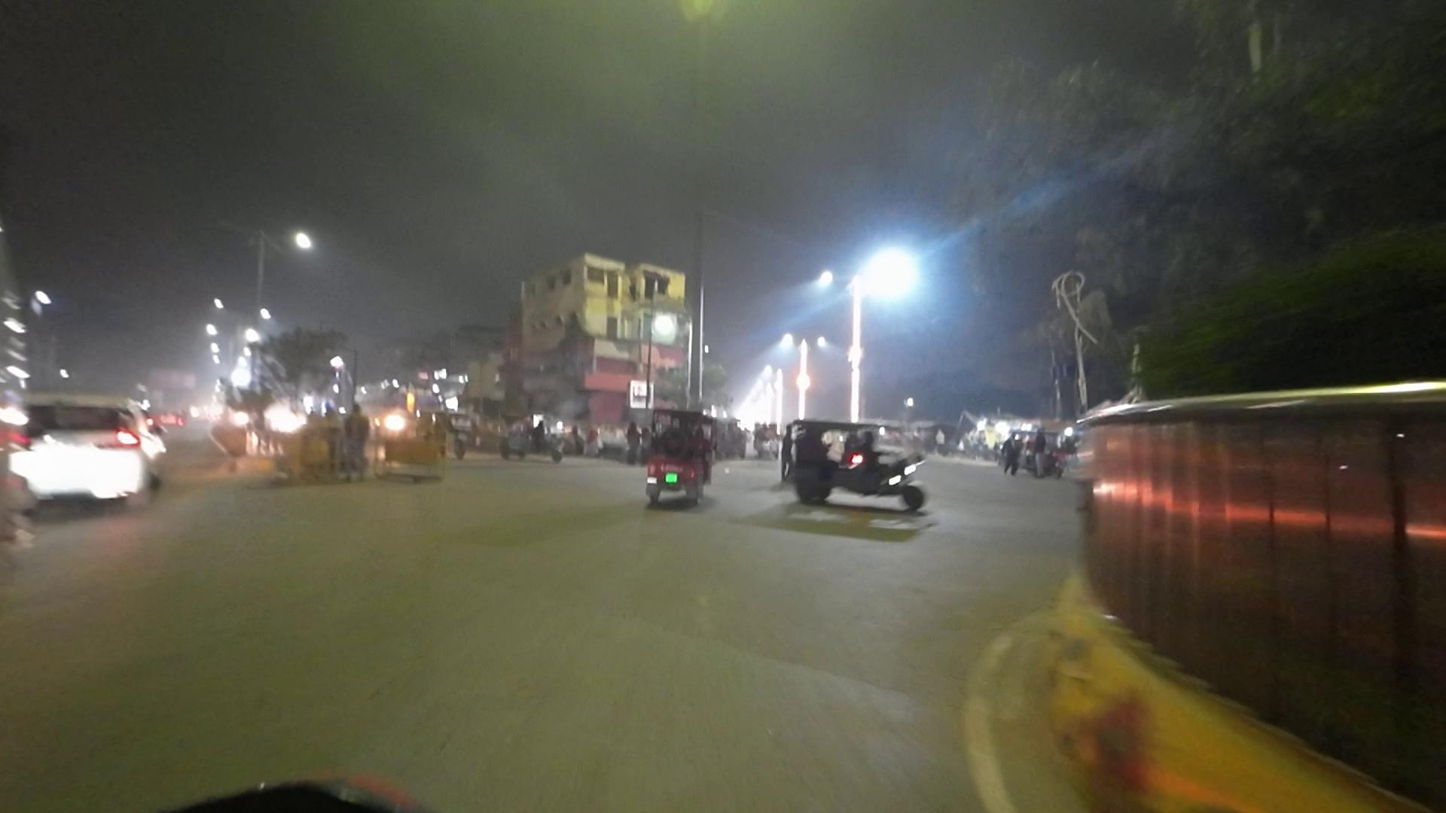streetlight: (219, 219, 258, 236)
